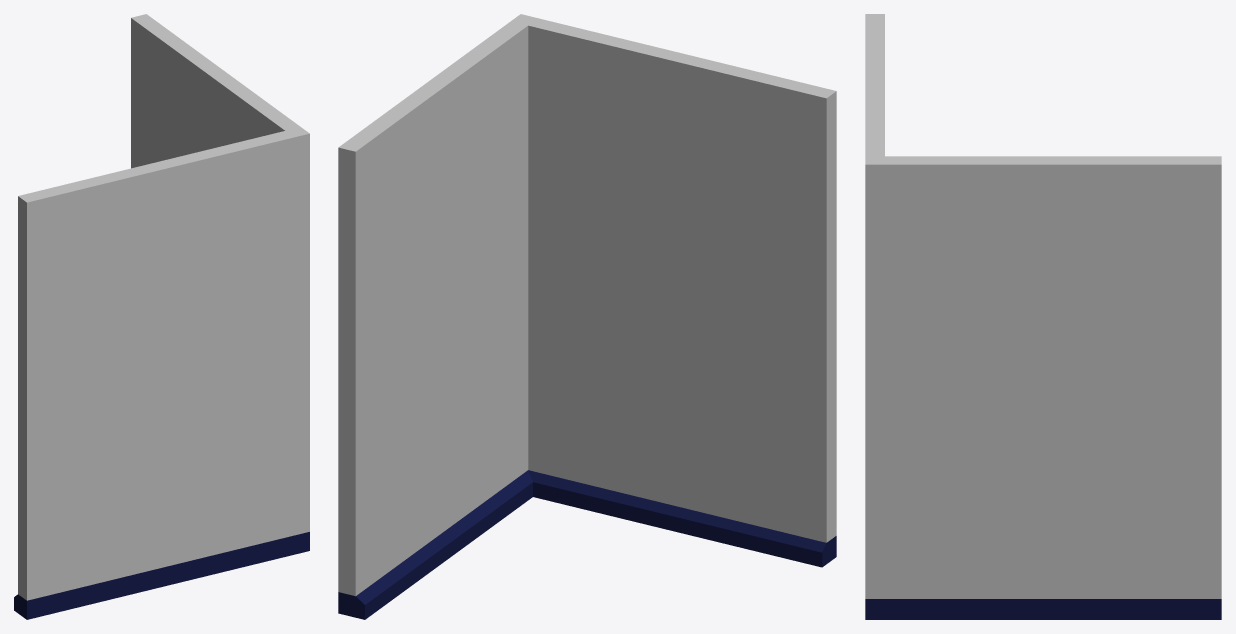
Rendered from CornerWall_R.001.fbx.
3 views of the same model, side by side, from view 1: azimuth 30°, elevation 25°; view 2: azimuth 150°, elevation 25°; view 3: azimuth 270°, elevation 25° (orthographic). The views are drawn at different scales.
Visible parts, largest first — view 1: CornerWall_R.001; view 2: CornerWall_R.001; view 3: CornerWall_R.001.
Part boxes in pixels (x1,y1,x2,y2): CornerWall_R.001: [14, 14, 309, 619]; CornerWall_R.001: [338, 14, 836, 619]; CornerWall_R.001: [865, 14, 1221, 619].
Size of the model in its own units: 34.51 by 48.64 by 34.52.
